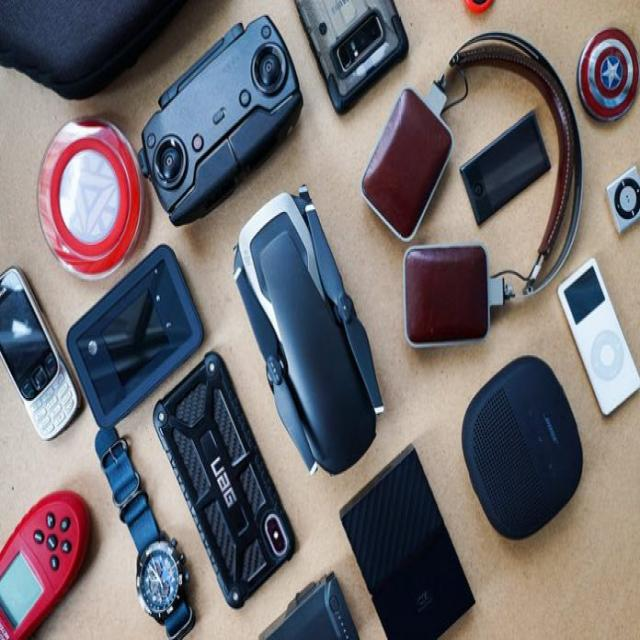hazard: (0, 0, 620, 636)
